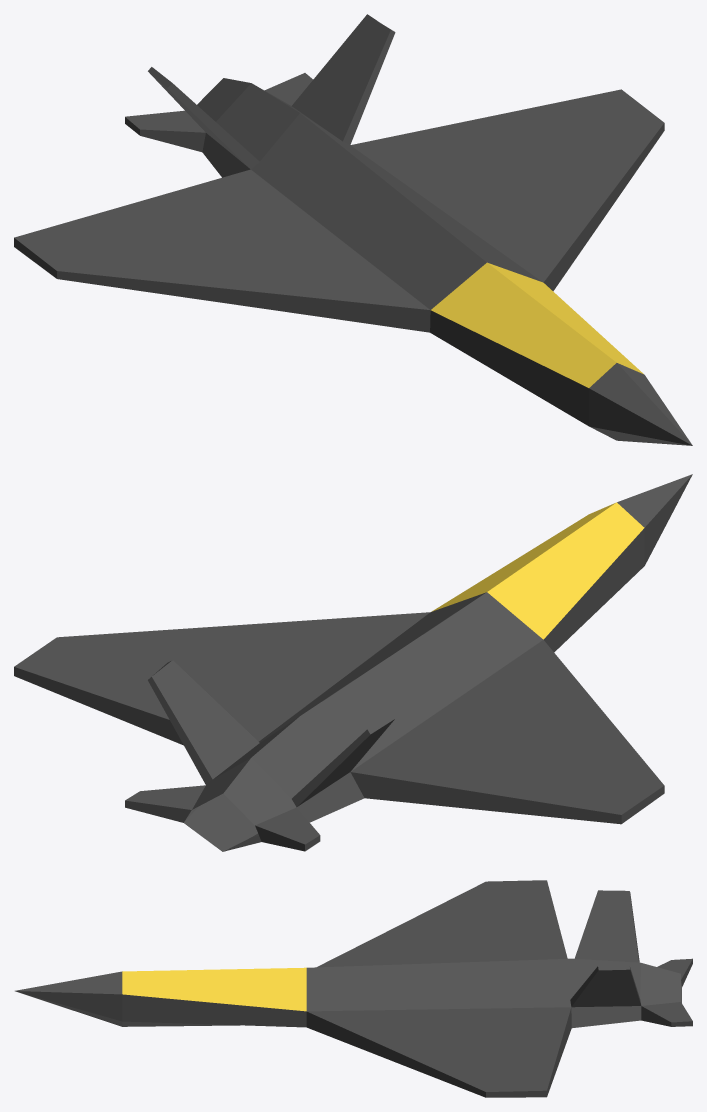
The model's file is Jet.fbx.
3 views of the same model, one above another, from view 1: azimuth 30°, elevation 25°; view 2: azimuth 150°, elevation 25°; view 3: azimuth 270°, elevation 25° (orthographic). The views are drawn at different scales.
Parts seen in each view (by area): view 1: Jet.; view 2: Jet.; view 3: Jet..
Part boxes in pixels (x1,y1,x2,y2): Jet.: (14,14,692,445); Jet.: (14,474,692,851); Jet.: (15,880,692,1097).
Size of the model in its own units: 348 by 76.03 by 474.
